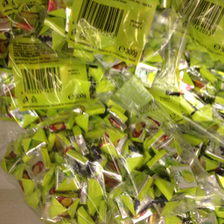candy: (10, 98, 200, 221), (53, 1, 222, 77)
